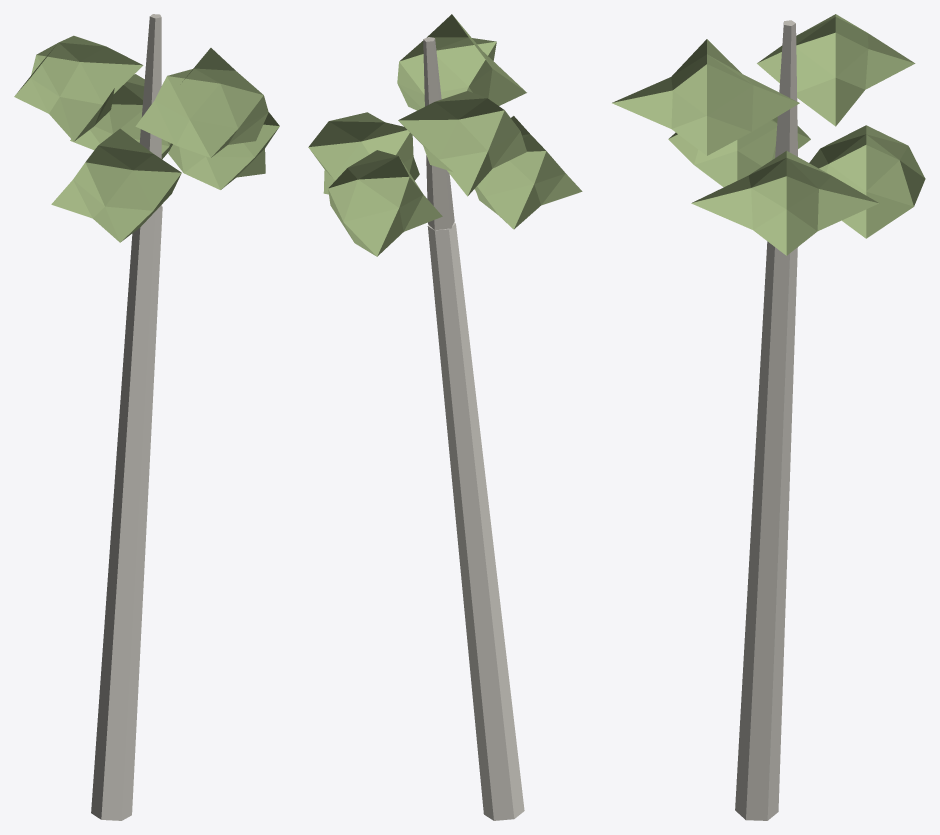
Rendered from birch_v19.glb.
The picture shows the model from 3 angles, left to right: view 1: azimuth 30°, elevation 25°; view 2: azimuth 150°, elevation 25°; view 3: azimuth 270°, elevation 25°; orthographic projection. The views are drawn at different scales.
Parts seen in each view (by area): view 1: lod0; view 2: lod0; view 3: lod0.
Boxes of the visible parts, left/top/right/bottom form: lod0: left=14, top=14, right=279, bottom=820; lod0: left=308, top=14, right=582, bottom=820; lod0: left=612, top=14, right=925, bottom=820.
Size of what is drawn, in the model's own units: 1.84 by 5.41 by 1.88.
